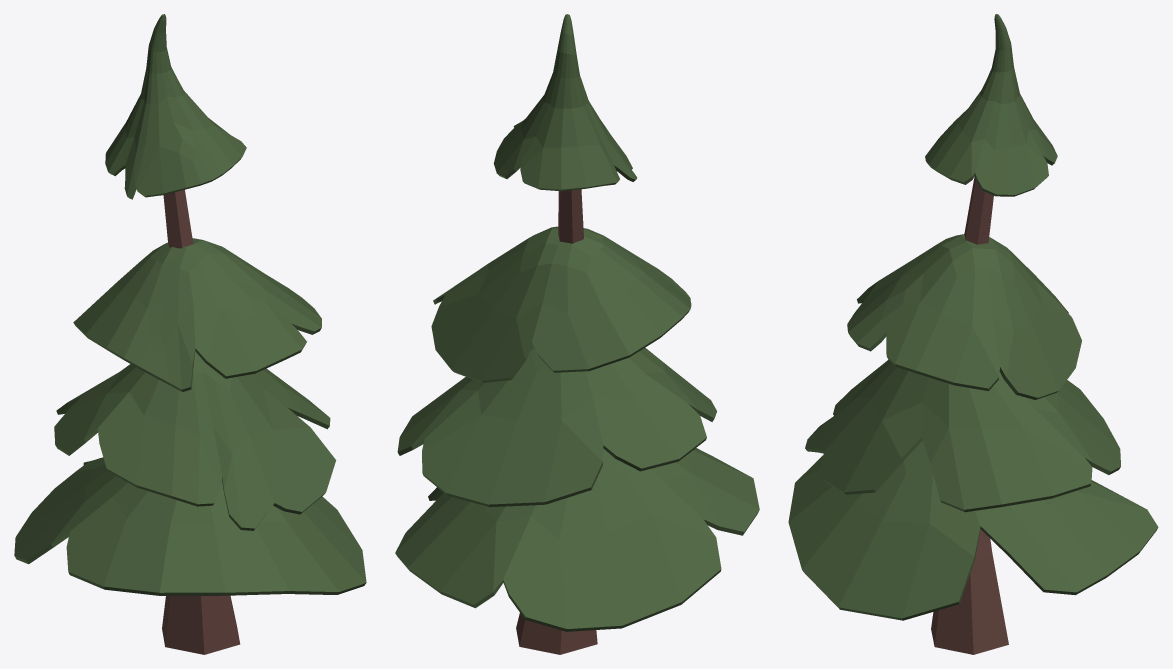
The model's file is pine2.glb.
The picture shows the model from 3 angles, left to right: view 1: azimuth 30°, elevation 25°; view 2: azimuth 150°, elevation 25°; view 3: azimuth 270°, elevation 25°; orthographic projection. The views are drawn at different scales.
Visible parts, largest first — view 1: PineTree_2; view 2: PineTree_2; view 3: PineTree_2.
Part boxes in pixels (<box>): PineTree_2: <box>14,14,366,654</box>; PineTree_2: <box>395,14,759,654</box>; PineTree_2: <box>788,14,1158,654</box>.
Bounding box in the file's own units: 1.8 × 3.56 × 1.96.
